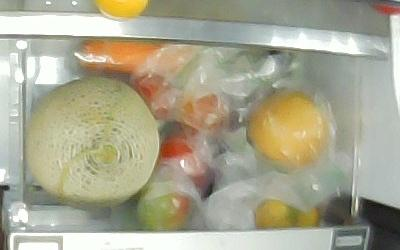carrot_vinyl: (75, 40, 197, 72)
melon: (27, 77, 160, 203)
pear_vinyl: (249, 91, 327, 169)
prune_vinyl: (179, 94, 227, 133)
tangerine_vinyl: (253, 199, 295, 227), (290, 203, 319, 229)
tomato_vinyl: (156, 134, 213, 194), (136, 178, 195, 229), (134, 75, 169, 120)
